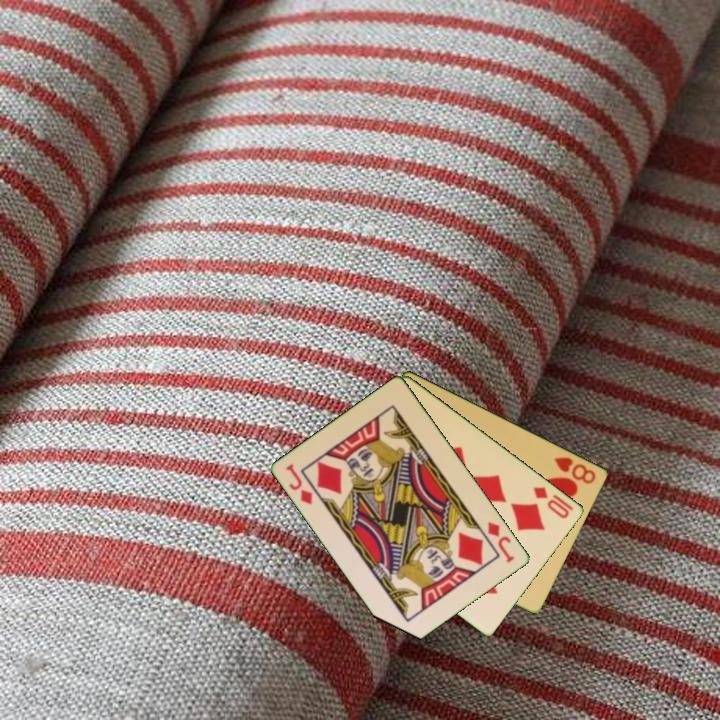10d: (530, 483, 573, 521)
8h: (551, 453, 599, 487)
Jd: (484, 518, 518, 566), (283, 460, 316, 508)
